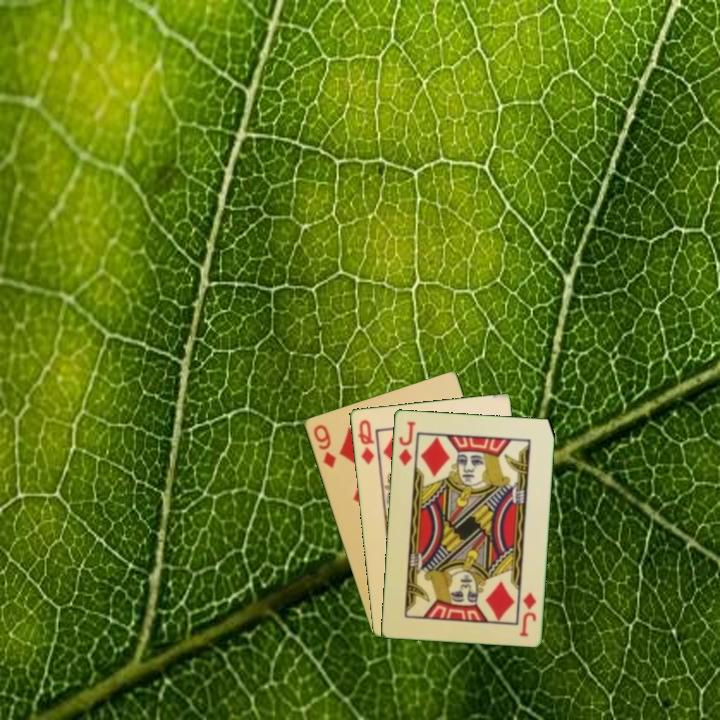9d: (309, 421, 339, 471)
Jd: (395, 417, 418, 468), (516, 588, 539, 639)
Qd: (354, 416, 377, 467)
